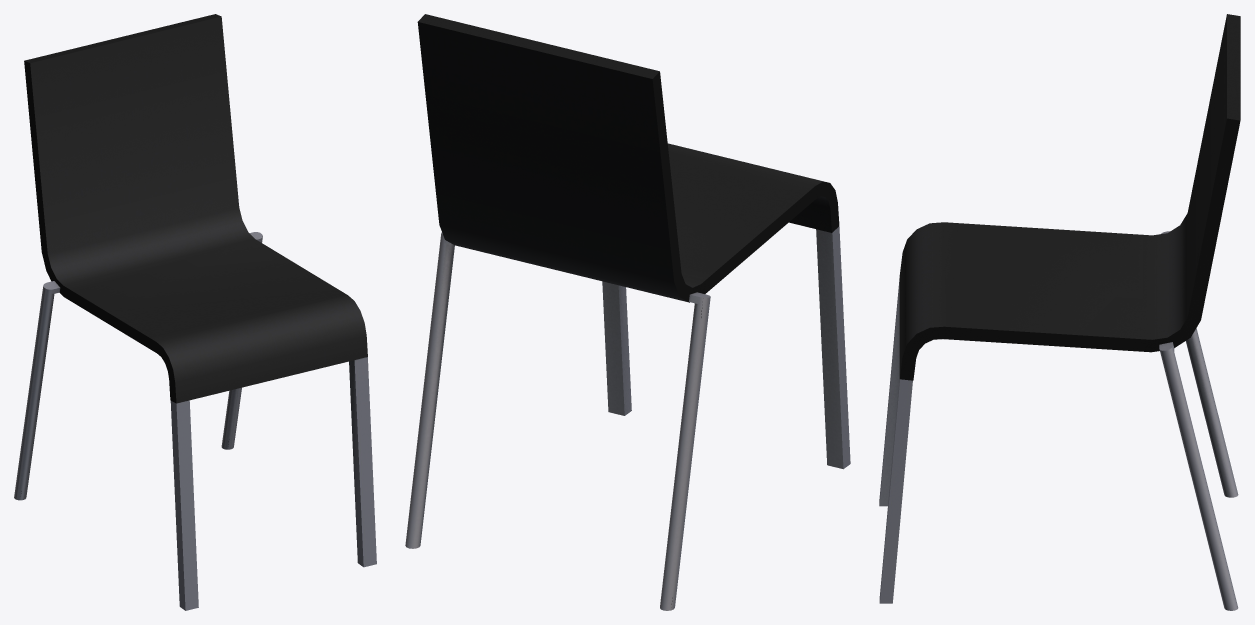
File: 03_black.glb
The picture shows the model from 3 angles, left to right: view 1: azimuth 30°, elevation 25°; view 2: azimuth 150°, elevation 25°; view 3: azimuth 270°, elevation 25°; orthographic projection. The views are drawn at different scales.
Visible parts, largest first — view 1: 03_black; view 2: 03_black; view 3: 03_black.
Boxes of the visible parts, x1,y1,x2,y2 form: 03_black: [14, 14, 376, 610]; 03_black: [405, 14, 850, 610]; 03_black: [879, 14, 1240, 610].
Size of the model in its own units: 410 by 780 by 526.
Materials: 1 (1 with a texture image).
